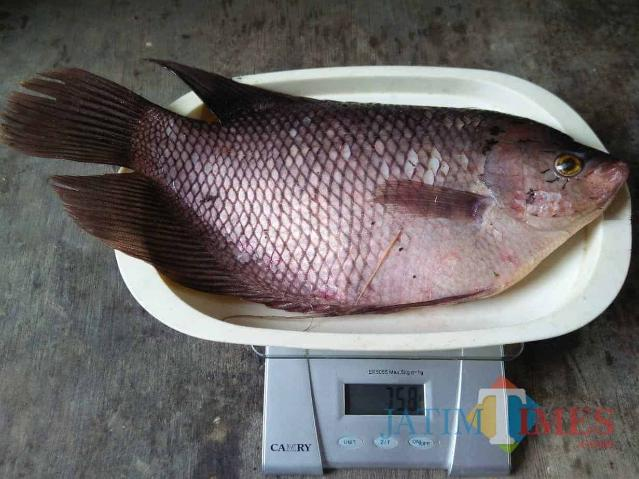Mulut: (556, 137, 639, 225)
Sirip Anal: (45, 162, 356, 326)
Sirip Dada: (352, 152, 504, 240)
Sirip Perut: (0, 54, 190, 178)
Sirip Punggung: (134, 32, 338, 134)
